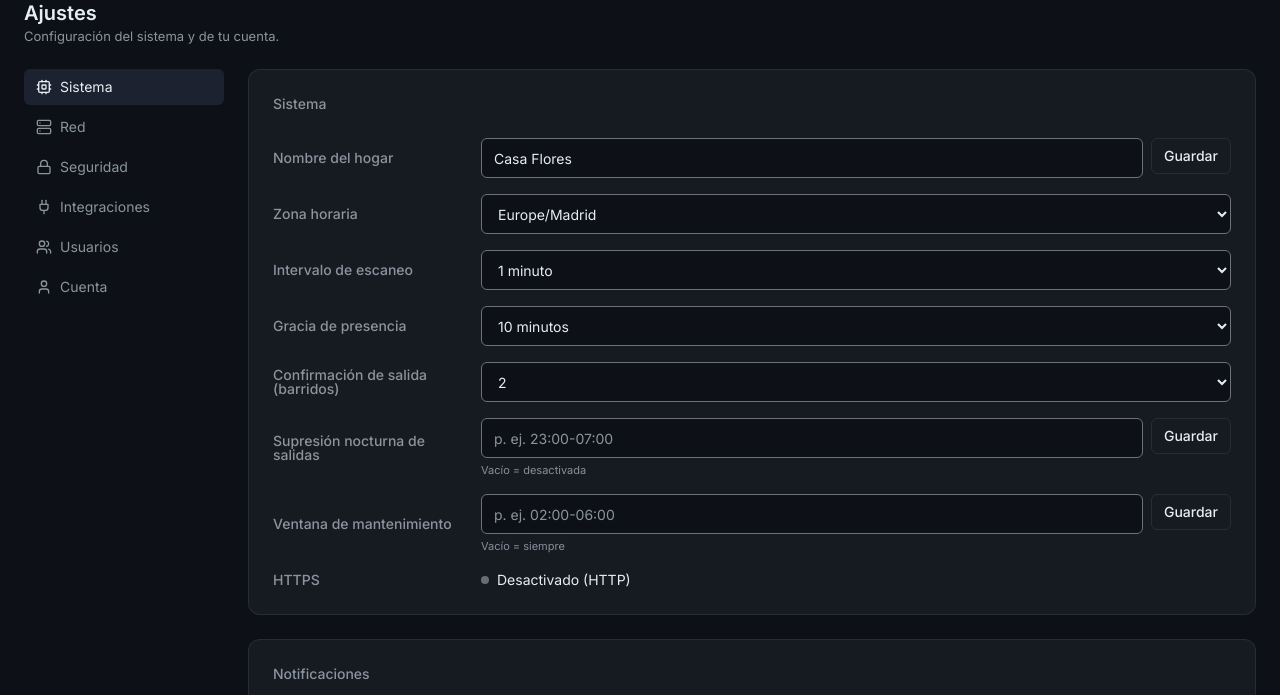
Scenario: SettingsPage › el registro de auditoría enseña cada acción con su texto y declara la que no conoce
The image size is (1280, 695).
Click the button "Cuenta" at (124, 287), box [24,269,224,305]
(page scrolled)
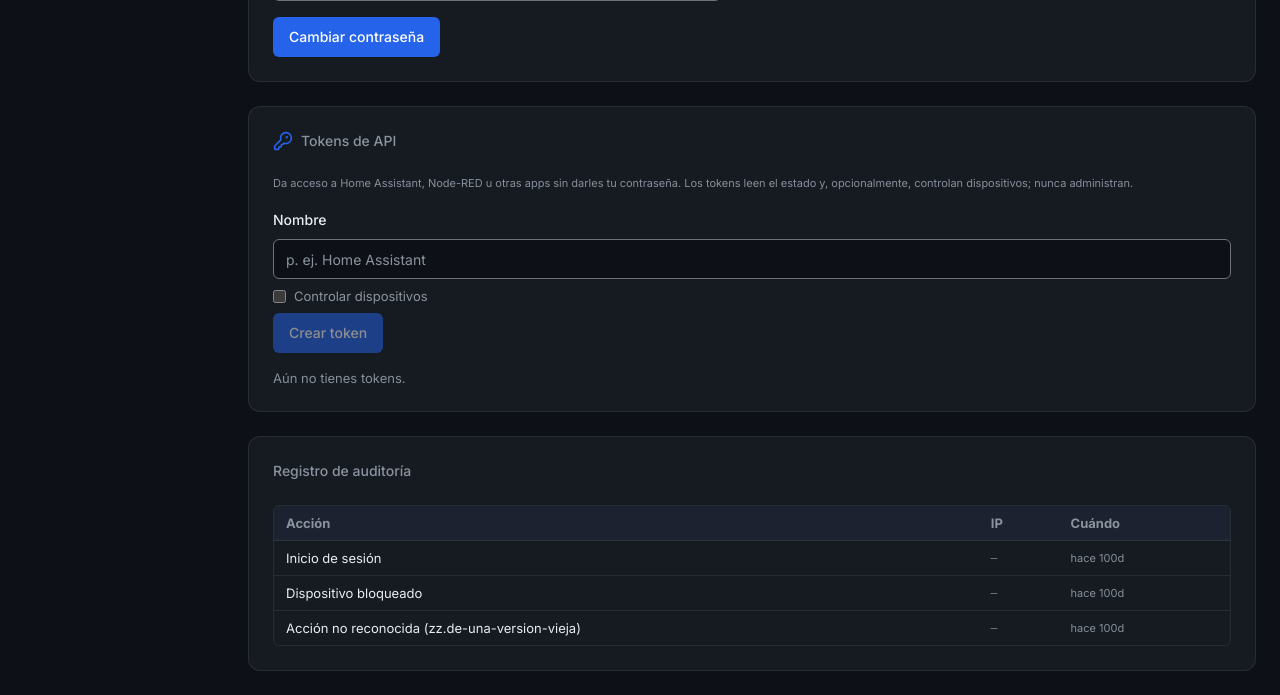
Check: the text "Inicio de sesión" is shown, box [274,540,979,576]
Check: the text "Dispositivo bloqueado" is shown, box [274,576,979,610]
Check: the text "Acción no reconocida (zz.de-una-version-vieja)" is shown, box [274,610,979,645]
